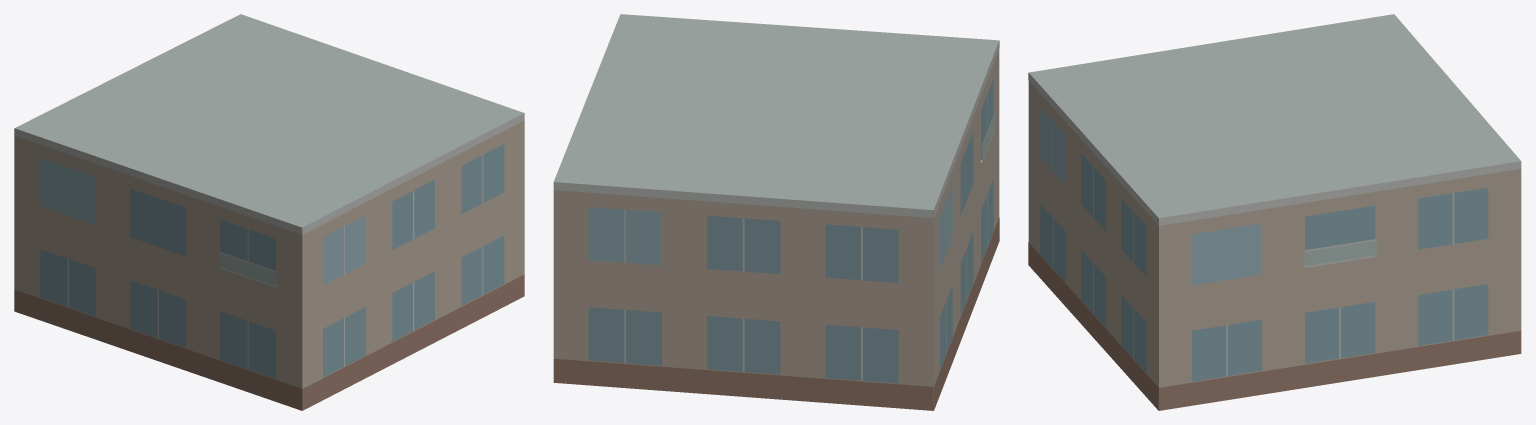
File: survey-upis-32854433.glb
The picture shows the model from 3 angles, left to right: view 1: azimuth 30°, elevation 25°; view 2: azimuth 150°, elevation 25°; view 3: azimuth 270°, elevation 25°; orthographic projection. The views are drawn at different scales.
Visible parts, largest first — view 1: survey-upis-32854433.tmp; view 2: survey-upis-32854433.tmp; view 3: survey-upis-32854433.tmp.
Part boxes in pixels (x1,y1,x2,y2): survey-upis-32854433.tmp: (14,14,524,410); survey-upis-32854433.tmp: (553,14,999,410); survey-upis-32854433.tmp: (1028,14,1521,410).
Bounding box in the file's own units: 13.88 × 6.1 × 14.15.
